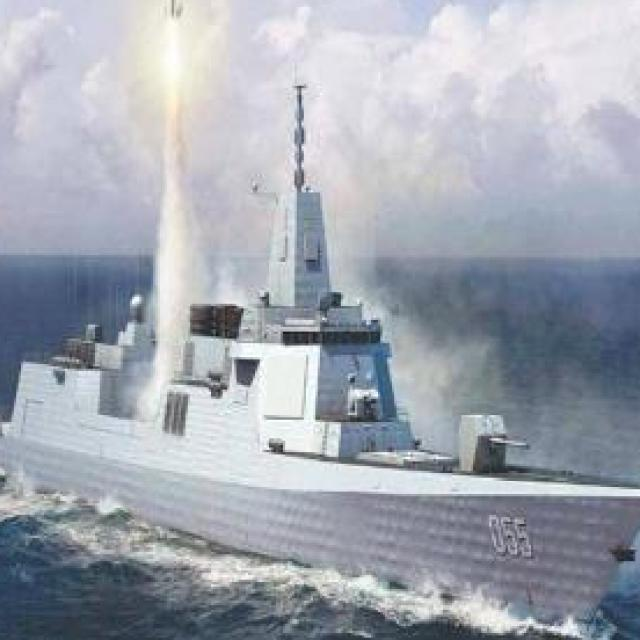navalvessels: (0, 63, 640, 616)
